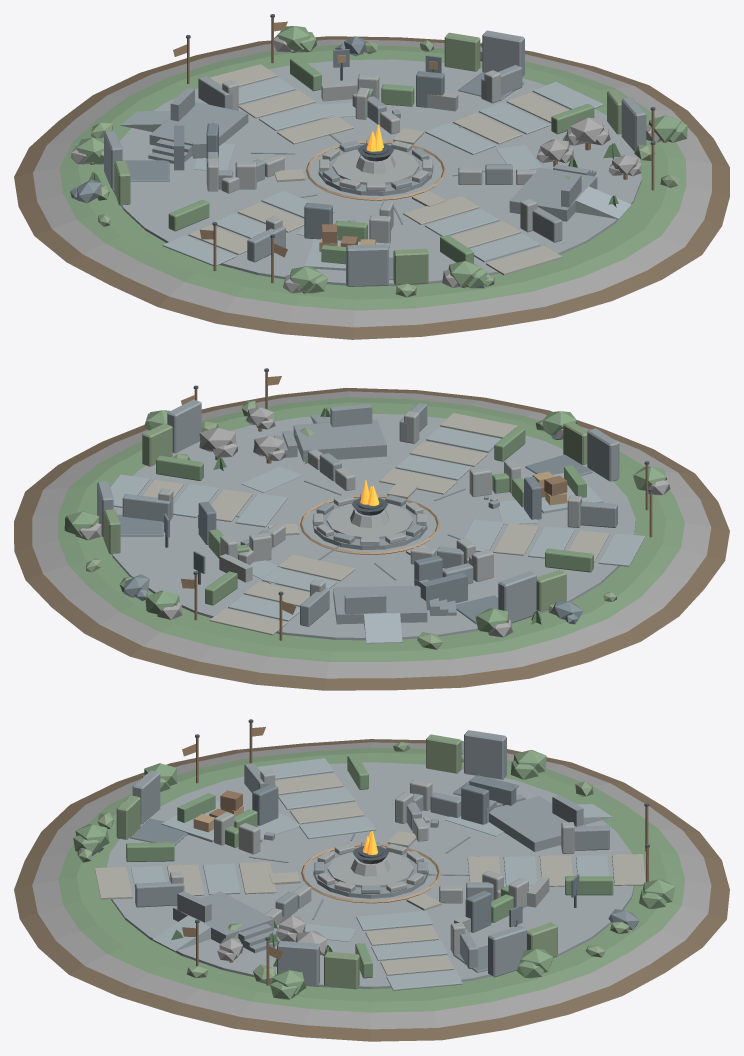
The model's file is middle-island.glb.
3 views of the same model, one above another, from view 1: azimuth 30°, elevation 25°; view 2: azimuth 150°, elevation 25°; view 3: azimuth 270°, elevation 25° (orthographic).
Parts seen in each view (by area): view 1: middle_island_middleisland_berm, middle_island_arena_floor_bluegray, middle_island_arena_stone_bluegray, middle_island_arena_path_mutedblue, middle_island_arena_path_mutedsand, middle_island_arena_stone_softgray, middle_island_arena_nature_desaturated, middle_island_arena_rock_moss, middle_island_arena_stone_dark, middle_island_arena_nature_dark, middle_island_arena_crate_brown, middle_island_arena_marker_warmmuted (+1 smaller); view 2: middle_island_middleisland_berm, middle_island_arena_floor_bluegray, middle_island_arena_stone_bluegray, middle_island_arena_path_mutedblue, middle_island_arena_path_mutedsand, middle_island_arena_stone_softgray, middle_island_arena_nature_desaturated, middle_island_arena_stone_dark, middle_island_arena_rock_moss, middle_island_arena_nature_dark, middle_island_arena_crate_brown, middle_island_arena_marker_warmmuted (+1 smaller); view 3: middle_island_middleisland_berm, middle_island_arena_floor_bluegray, middle_island_arena_stone_bluegray, middle_island_arena_path_mutedblue, middle_island_arena_path_mutedsand, middle_island_arena_nature_desaturated, middle_island_arena_stone_softgray, middle_island_arena_rock_moss, middle_island_arena_stone_dark, middle_island_arena_nature_dark, middle_island_arena_crate_brown, middle_island_arena_marker_warmmuted (+1 smaller).
Boxes of the visible parts, x1,y1,x2,y2 form: middle_island_middleisland_berm: (14,36,729,339); middle_island_arena_floor_bluegray: (112,59,641,286); middle_island_arena_stone_bluegray: (104,30,646,286); middle_island_arena_path_mutedblue: (120,77,631,270); middle_island_arena_path_mutedsand: (188,64,567,275); middle_island_arena_stone_softgray: (206,70,536,243); middle_island_arena_nature_desaturated: (76,26,687,293); middle_island_arena_rock_moss: (91,32,679,297); middle_island_arena_stone_dark: (70,36,524,288); middle_island_arena_nature_dark: (71,35,662,293); middle_island_arena_crate_brown: (90,17,667,293); middle_island_arena_marker_warmmuted: (173,21,654,257); middle_island_middleisland_berm: (14,388,729,690); middle_island_arena_floor_bluegray: (111,414,635,640); middle_island_arena_stone_bluegray: (97,399,619,626); middle_island_arena_path_mutedblue: (110,414,645,643); middle_island_arena_path_mutedsand: (142,413,609,635); middle_island_arena_stone_softgray: (158,411,581,596); middle_island_arena_nature_desaturated: (64,410,667,632); middle_island_arena_stone_dark: (117,428,592,624); middle_island_arena_rock_moss: (86,400,616,649); middle_island_arena_nature_dark: (75,407,670,637); middle_island_arena_crate_brown: (194,372,652,640); middle_island_arena_marker_warmmuted: (181,376,652,614); middle_island_middleisland_berm: (14,739,729,1041); middle_island_arena_floor_bluegray: (106,762,634,989); middle_island_arena_stone_bluegray: (132,730,609,986); middle_island_arena_path_mutedblue: (131,758,612,990); middle_island_arena_path_mutedsand: (95,773,645,975); middle_island_arena_nature_desaturated: (73,750,675,999); middle_island_arena_stone_softgray: (170,769,574,954); middle_island_arena_rock_moss: (78,734,629,989); middle_island_arena_stone_dark: (77,740,639,972); middle_island_arena_nature_dark: (217,916,327,961); middle_island_arena_crate_brown: (196,723,648,985); middle_island_arena_marker_warmmuted: (182,727,648,959).
Bounding box in the file's own units: 46.6 × 4.43 × 46.6.
